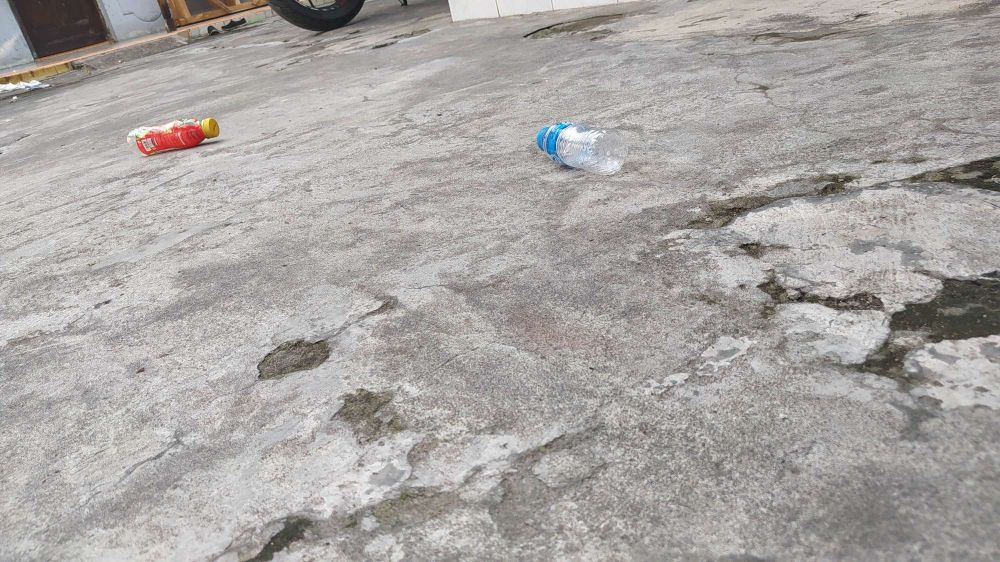botol: (512, 110, 634, 174), (113, 106, 227, 155)
